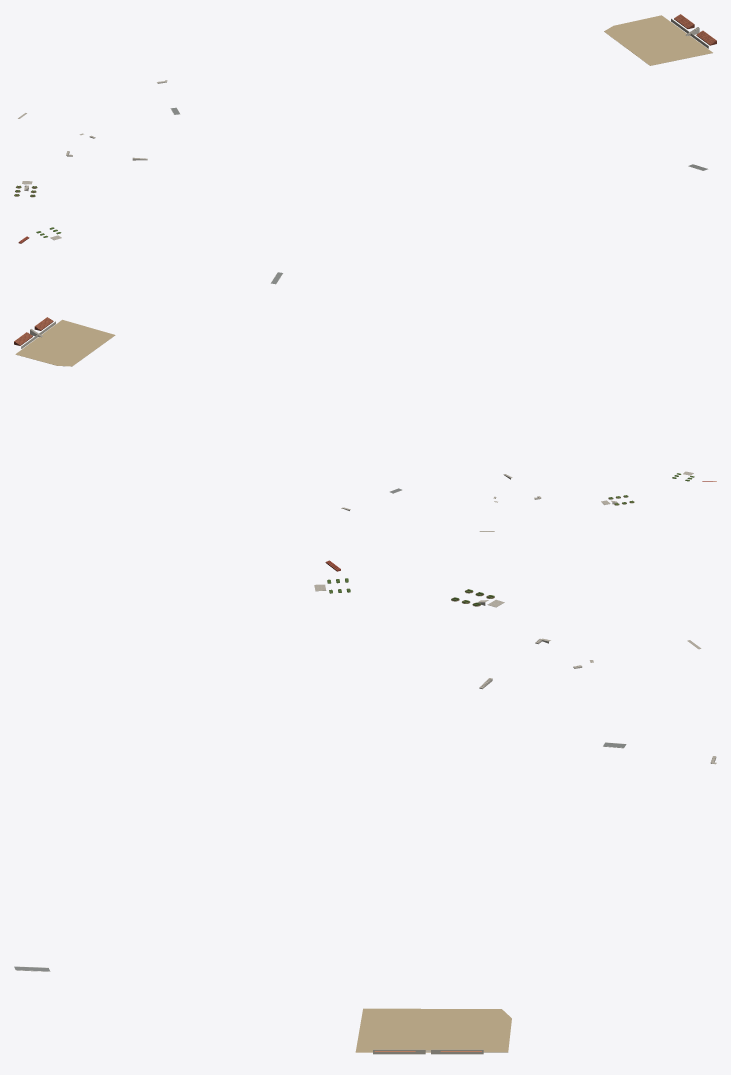
3 renders of one model, top to bottom at view 1: azimuth 30°, elevation 25°; view 2: azimuth 150°, elevation 25°; view 3: azimuth 270°, elevation 25°, orthographic. The views are drawn at different scales.
Visible parts, largest first — view 1: east-field-dirt-surface__dirtField; view 2: east-field-dirt-surface__dirtField; view 3: east-field-dirt-surface__dirtField.
Part boxes in pixels (<box>): east-field-dirt-surface__dirtField: <box>604,15,712,65</box>; east-field-dirt-surface__dirtField: <box>15,319,115,366</box>; east-field-dirt-surface__dirtField: <box>355,1008,511,1052</box>.
Bounding box in the file's own units: 829 × 20.36 × 478.
17 materials, 1 textured.
